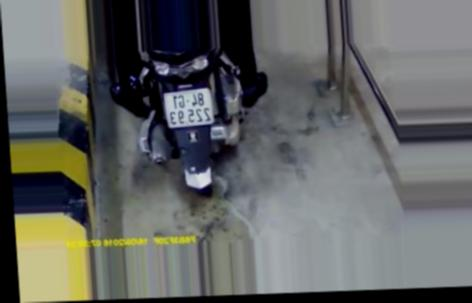License_Plate: (157, 83, 219, 132)
